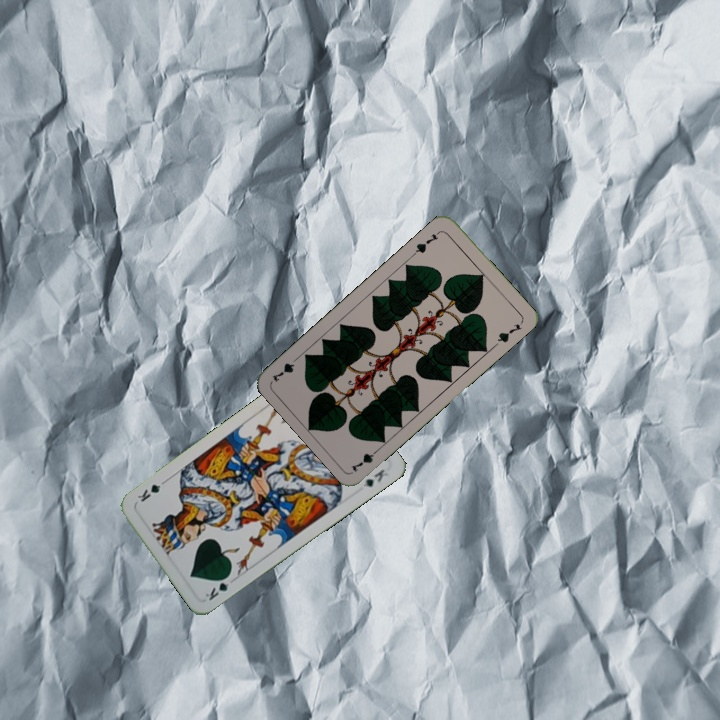G7: (347, 443, 383, 474), (410, 227, 443, 258)
GK: (201, 571, 233, 603)
